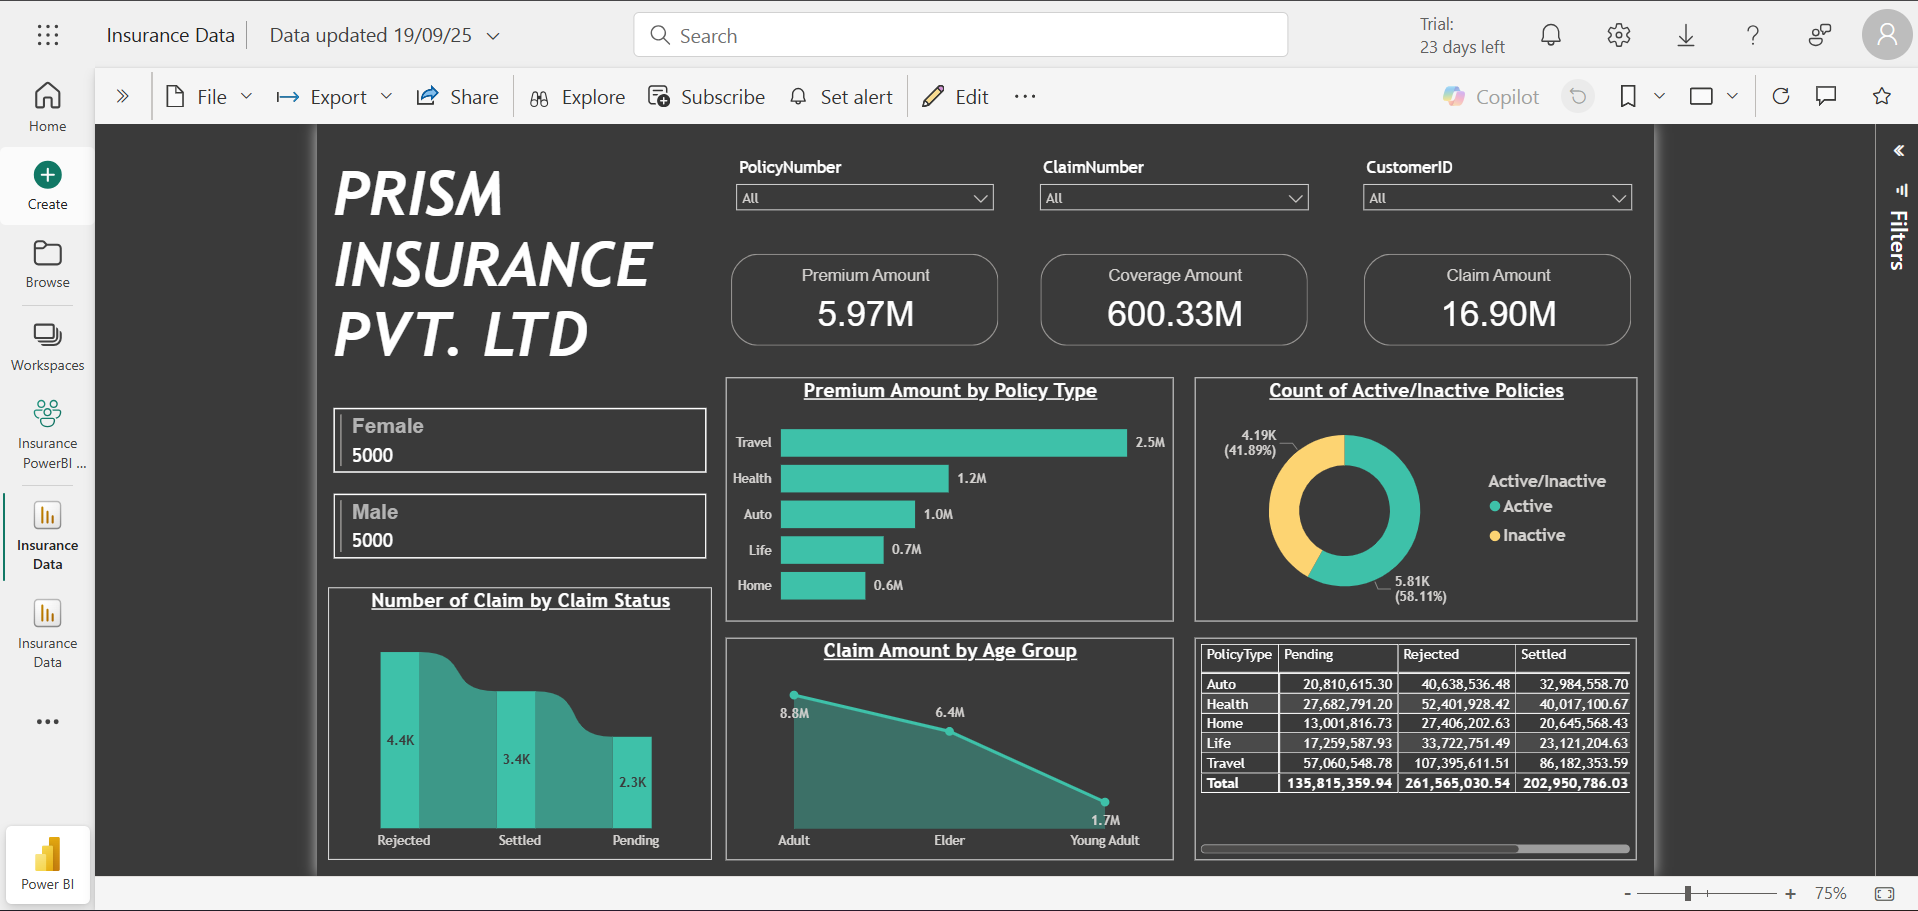

What the dashboard file says about the page in this screenshot:
{"tool":"powerbi","page":{"name":"Page 1","canvas":[1280,720],"ordinal":0},"visuals":[{"type":"slicer","fields":{"Values":["InsuranceData.PolicyNumber"]},"box":[391.9,27.3,266.3,91.5],"z":0},{"type":"slicer","fields":{"Values":["InsuranceData.ClaimNumber"]},"box":[681.5,27.3,277.2,91.5],"z":1000},{"type":"slicer","fields":{"Values":["InsuranceData.CustomerID"]},"box":[991.5,27.3,277.2,91.5],"z":2000},{"type":"textbox","box":[10.9,27.3,381,239],"z":3000},{"type":"cardVisual","fields":{"Data":["Sum(InsuranceData.PremiumAmount)"]},"box":[391.9,118.8,266.3,98.3],"z":4000},{"type":"cardVisual","fields":{"Data":["Sum(InsuranceData.CoverageAmount)"]},"box":[686.9,118.8,266.3,98.3],"z":5000},{"type":"cardVisual","fields":{"Data":["Sum(InsuranceData.ClaimAmount)"]},"box":[996.9,118.8,266.3,98.3],"z":6000},{"type":"multiRowCard","fields":{"Values":["InsuranceData.Gender","CountNonNull(InsuranceData.Gender)"]},"box":[10.9,266.3,367.4,177.5],"z":7000},{"type":"ribbonChart","title":"Number of Claim by Claim Status","fields":{"Category":["InsuranceData.ClaimStatus"],"Y":["CountNonNull(InsuranceData.ClaimStatus)"]},"box":[10.9,443.8,367.4,260.8],"z":8000},{"type":"barChart","title":"Premium Amount by Policy Type","fields":{"Y":["Sum(InsuranceData.PremiumAmount)"],"Category":["InsuranceData.PolicyType"]},"box":[391.9,243.1,428.8,233.5],"z":9000},{"type":"lineChart","title":"Claim Amount by Age Group","fields":{"Category":["InsuranceData.Age Group"],"Y":["Sum(InsuranceData.ClaimAmount)"]},"box":[391.9,491.6,428.8,213],"z":10000},{"type":"donutChart","title":"Count of Active/Inactive Policies ","fields":{"Category":["InsuranceData.Active/Inactive"],"Y":["CountNonNull(InsuranceData.Active/Inactive)"]},"box":[839.9,243.1,423.4,233.5],"z":11000},{"type":"pivotTable","fields":{"Values":["Sum(InsuranceData.CoverageAmount)"],"Rows":["InsuranceData.PolicyType"],"Columns":["InsuranceData.ClaimStatus"]},"box":[840,492,423,213],"z":12000}]}

Visuals, with their boxes on the page's 1280x720 design canvas (x1, y1, x2, y2). These are canvas units, not pixel positions in the 1918x911 screenshot, which may show the page scaled, cropped or inside an application window:
slicer - InsuranceData.PolicyNumber: [x1=392, y1=27, x2=658, y2=119]
slicer - InsuranceData.ClaimNumber: [x1=682, y1=27, x2=959, y2=119]
slicer - InsuranceData.CustomerID: [x1=992, y1=27, x2=1269, y2=119]
textbox: [x1=11, y1=27, x2=392, y2=266]
cardVisual - Sum(InsuranceData.PremiumAmount): [x1=392, y1=119, x2=658, y2=217]
cardVisual - Sum(InsuranceData.CoverageAmount): [x1=687, y1=119, x2=953, y2=217]
cardVisual - Sum(InsuranceData.ClaimAmount): [x1=997, y1=119, x2=1263, y2=217]
multiRowCard - InsuranceData.Gender x CountNonNull(InsuranceData.Gender): [x1=11, y1=266, x2=378, y2=444]
"Number of Claim by Claim Status" ribbonChart: [x1=11, y1=444, x2=378, y2=705]
"Premium Amount by Policy Type" barChart: [x1=392, y1=243, x2=821, y2=477]
"Claim Amount by Age Group" lineChart: [x1=392, y1=492, x2=821, y2=705]
"Count of Active/Inactive Policies " donutChart: [x1=840, y1=243, x2=1263, y2=477]
pivotTable - Sum(InsuranceData.CoverageAmount) x InsuranceData.PolicyType: [x1=840, y1=492, x2=1263, y2=705]
